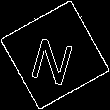N_N: (29, 25, 81, 85)
